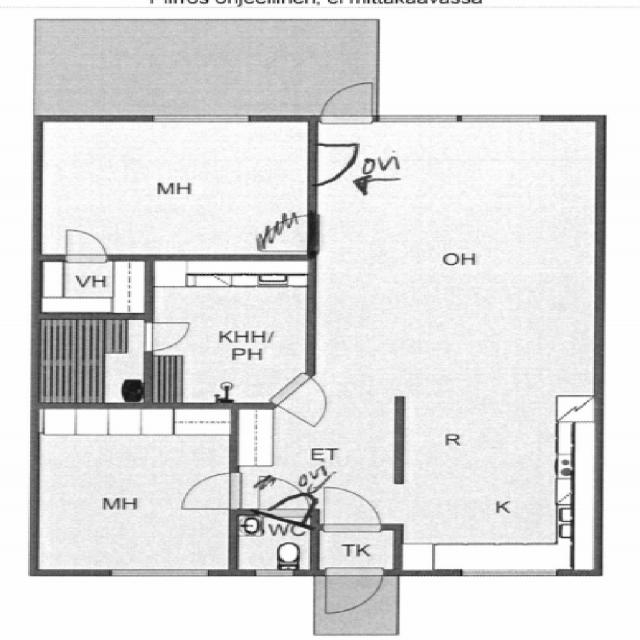door: (315, 474, 389, 538), (302, 138, 374, 190), (324, 569, 388, 627), (320, 74, 374, 128), (280, 376, 336, 428), (175, 470, 241, 514), (249, 472, 305, 521), (150, 312, 198, 358), (62, 223, 115, 257)
window: (373, 110, 546, 128), (140, 108, 250, 128), (458, 565, 569, 583), (106, 564, 222, 581), (249, 569, 298, 584)
zone: (303, 113, 608, 399), (43, 114, 314, 264), (30, 399, 234, 576), (394, 400, 595, 573), (150, 254, 302, 398), (40, 313, 156, 401), (238, 507, 318, 572)
